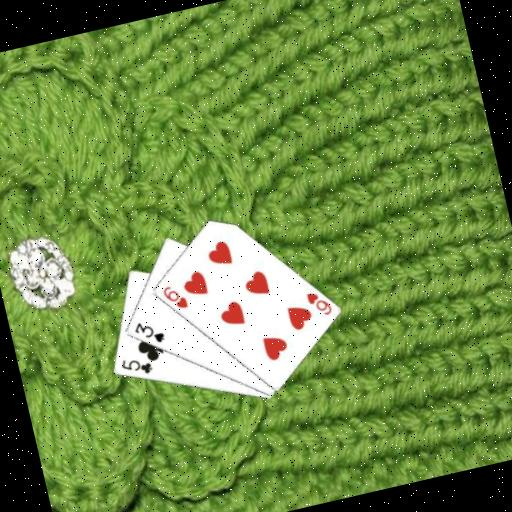3S: (129, 315, 167, 350)
5C: (117, 352, 155, 382)
6H: (158, 280, 190, 315), (302, 286, 334, 321)
